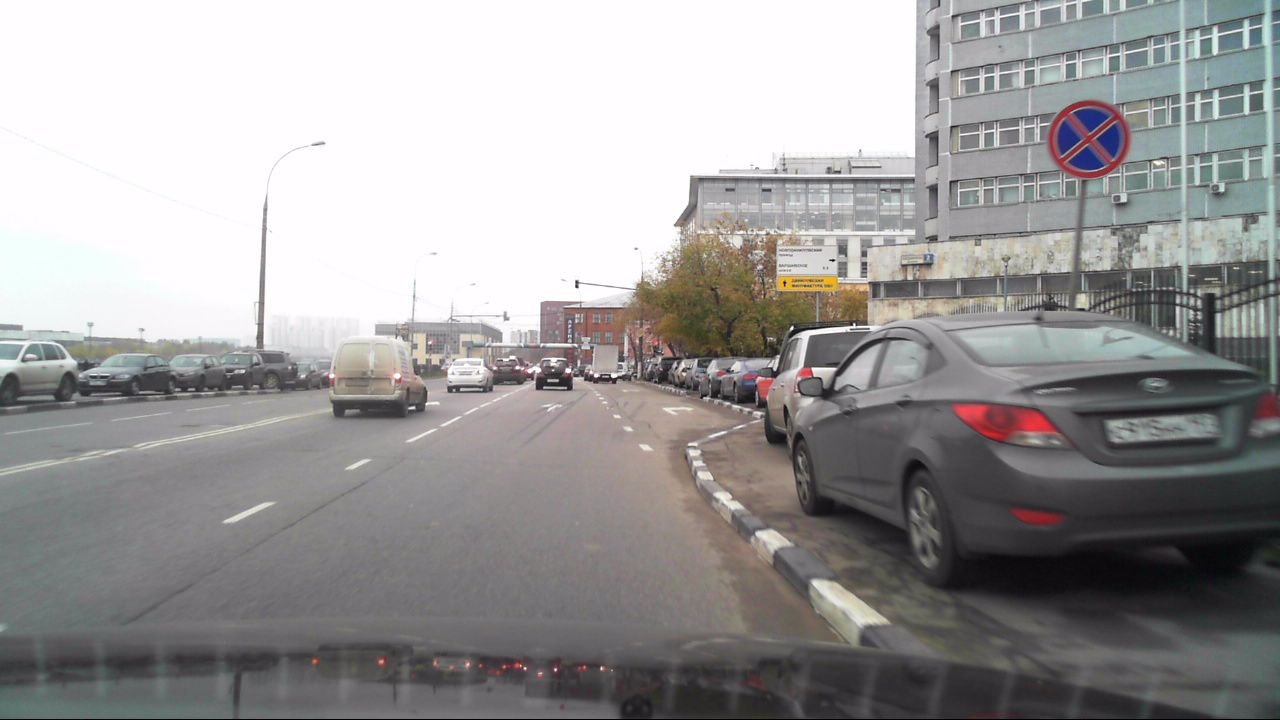No Parking: (1047, 99, 1129, 178)
